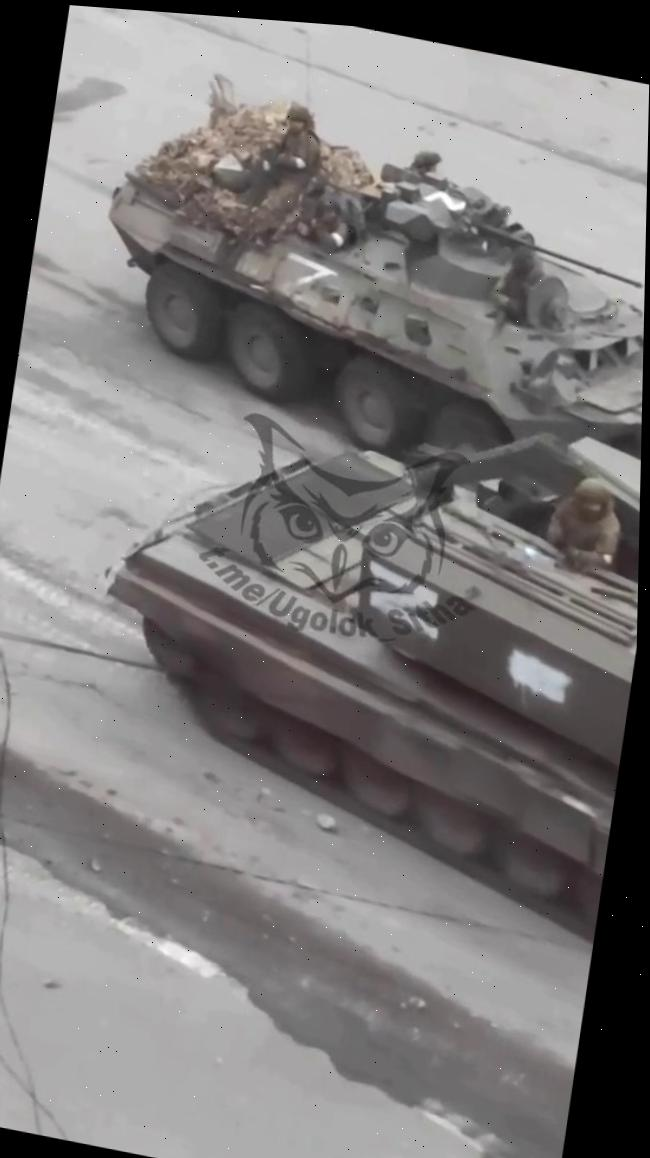person: (241, 93, 329, 244), (539, 468, 627, 581)
tank: (69, 339, 643, 952), (70, 41, 649, 510)
